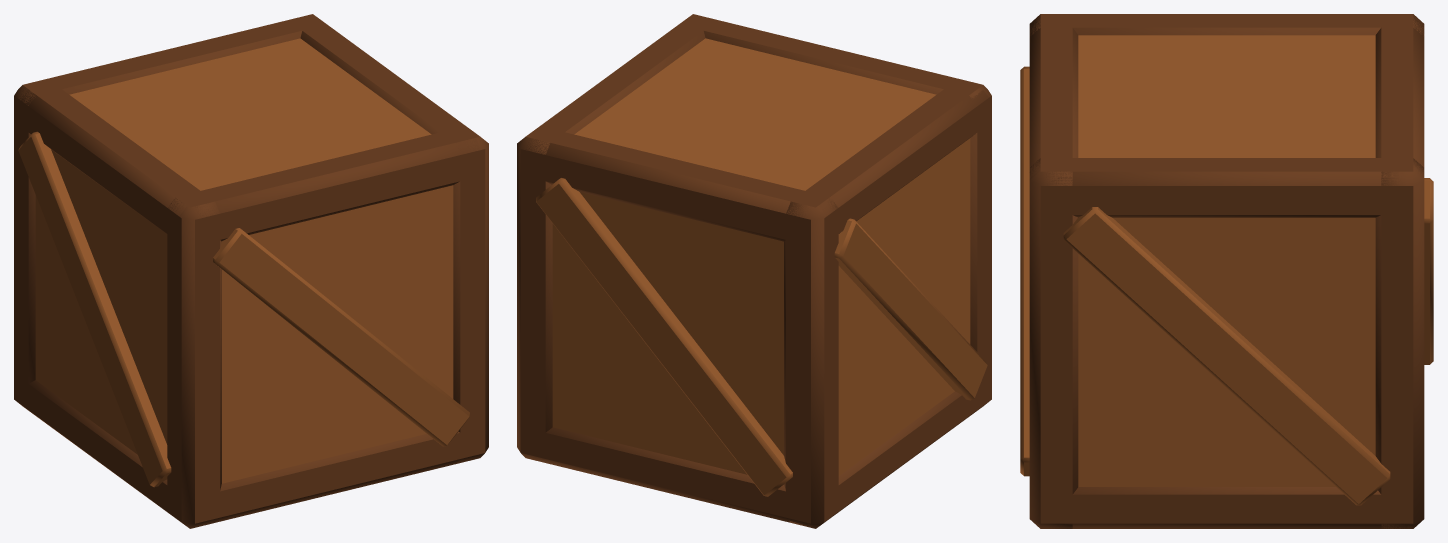
File: p_crate_1.glb
3 renders of one model, left to right at view 1: azimuth 30°, elevation 25°; view 2: azimuth 150°, elevation 25°; view 3: azimuth 270°, elevation 25°, orthographic. The views are drawn at different scales.
Parts seen in each view (by area): view 1: body; view 2: body; view 3: body.
Boxes of the visible parts, x1=… form: body: x1=14, y1=14, x2=488, y2=528; body: x1=517, y1=14, x2=991, y2=528; body: x1=1020, y1=14, x2=1433, y2=528.
Size of the model in its own units: 1.08 by 1.03 by 1.08.
